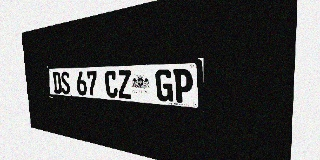6: (76, 71, 87, 96)
7: (86, 71, 98, 96)
C: (105, 70, 118, 98)
D: (52, 72, 62, 94)
G: (155, 69, 173, 102)
P: (173, 69, 193, 103)
S: (60, 72, 70, 94)
Z: (117, 70, 132, 99)
